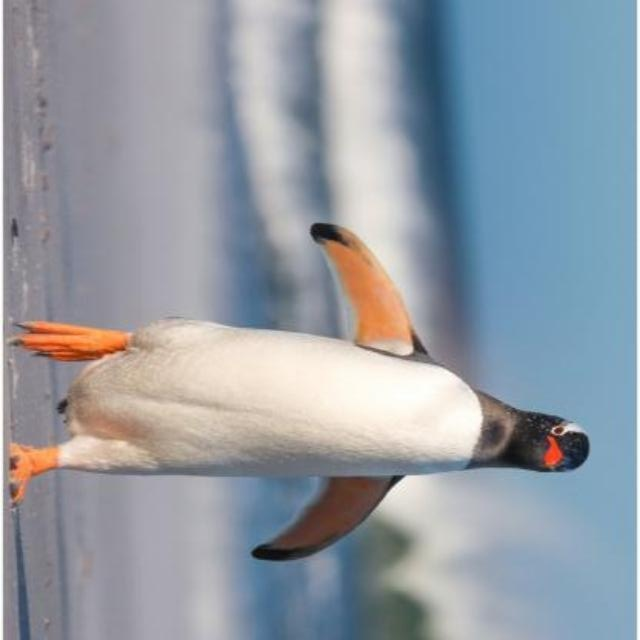penguin: (7, 222, 590, 564)
